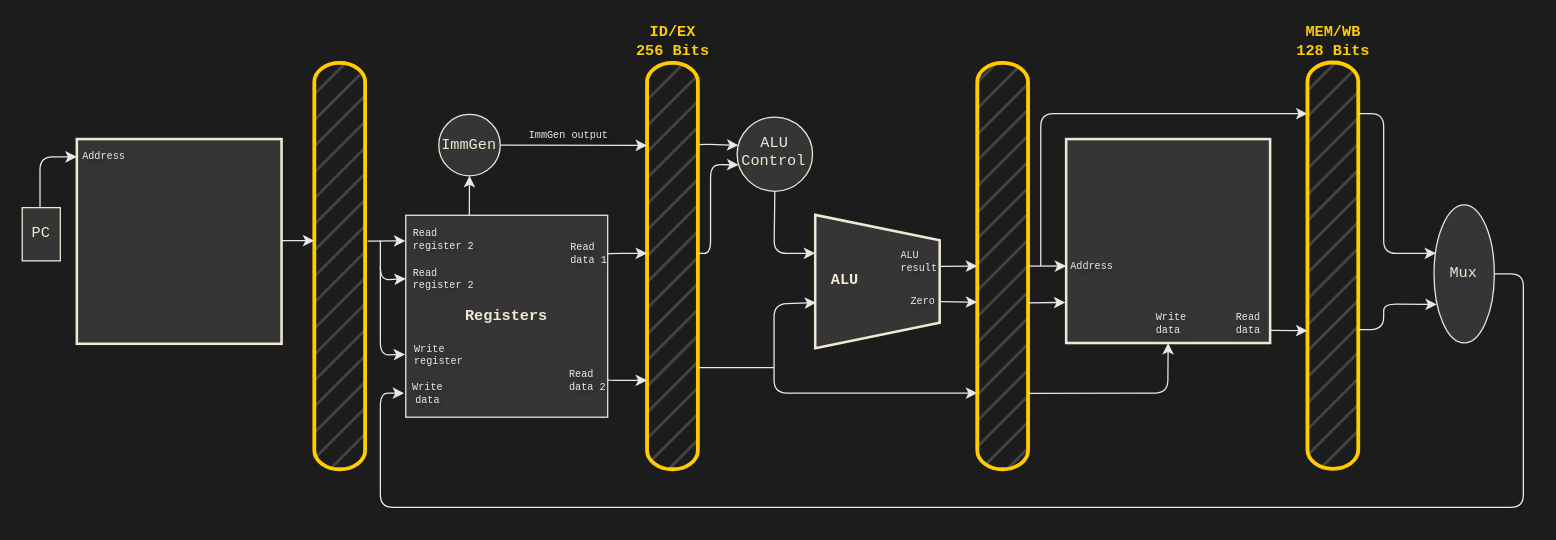
Image size: 1556x540. Some labels were removed from this diagram. Here are the shapes that lost their labels. From the top down, the centre of each, then its label:
[178,240]: Instruction Memory
[1167,240]: Data Memory
[339,265]: IF/ID 96 Bits
[1002,265]: EX/MEM 193 Bits
